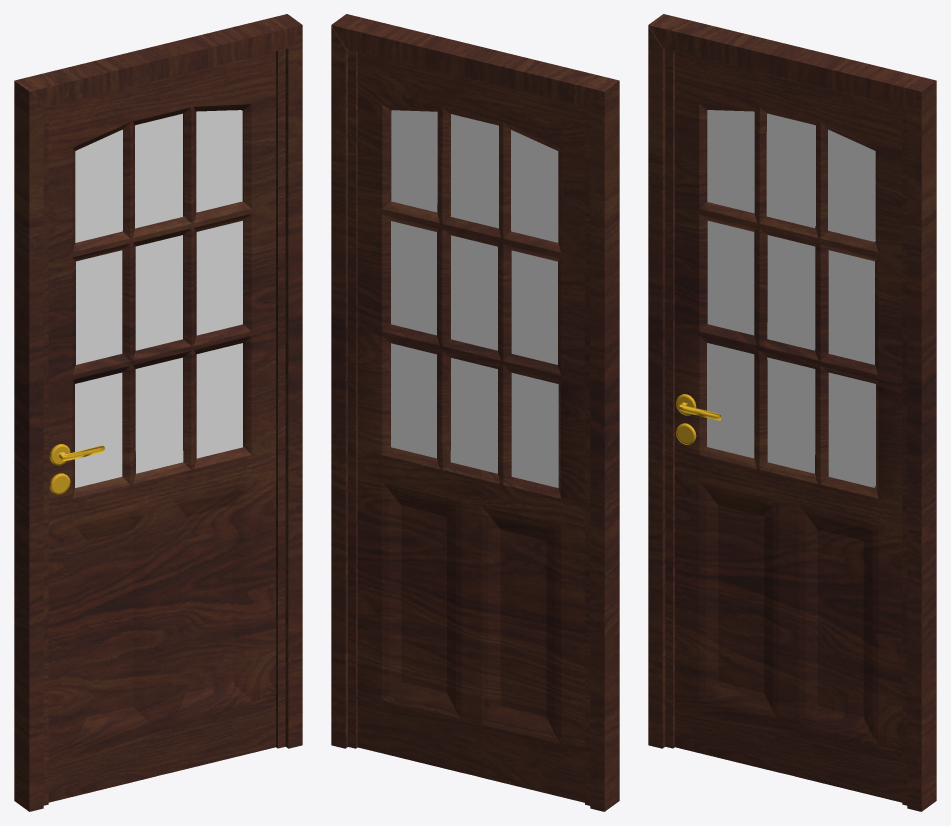
File: PUERTA2_GEORGIA.glb
3 views of the same model, side by side, from view 1: azimuth 30°, elevation 25°; view 2: azimuth 150°, elevation 25°; view 3: azimuth 330°, elevation 25° (orthographic).
Parts seen in each view (by area): view 1: Puerta2_GEORGIA, Puerta1_cristales, Puerta2_Marco, Puerta1_cerradura; view 2: Puerta2_GEORGIA, Puerta1_cristales, Puerta2_Marco; view 3: Puerta2_GEORGIA, Puerta1_cristales, Puerta2_Marco, Puerta1_cerradura.
Boxes of the visible parts, x1,y1,x2,y2 form: Puerta2_GEORGIA: (43,49,285,805); Puerta1_cristales: (75,110,242,487); Puerta2_Marco: (14,14,302,811); Puerta1_cerradura: (49,444,104,494); Puerta2_GEORGIA: (348,49,590,805); Puerta1_cristales: (391,110,558,487); Puerta2_Marco: (331,14,619,811); Puerta2_GEORGIA: (665,49,907,805); Puerta1_cristales: (707,110,875,487); Puerta2_Marco: (648,14,936,811); Puerta1_cerradura: (675,394,721,444).
Size of the model in its own units: 769 by 1936 by 85.
3 materials, 1 textured.
